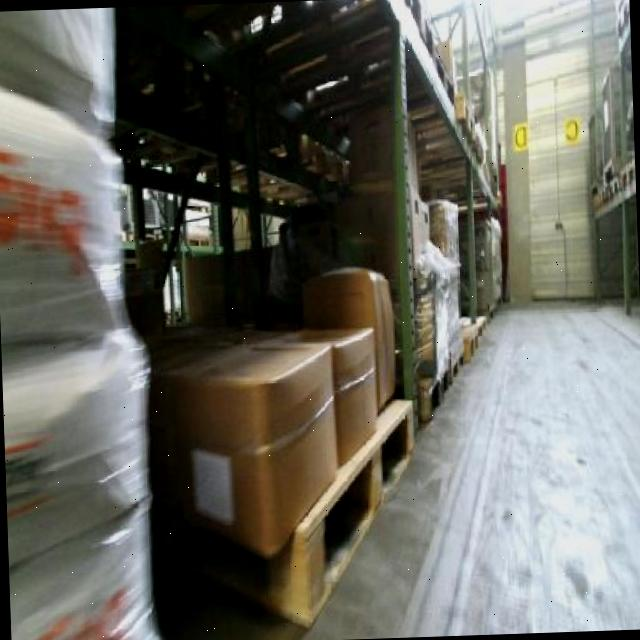pallet: (281, 386, 423, 639), (415, 353, 455, 440)
